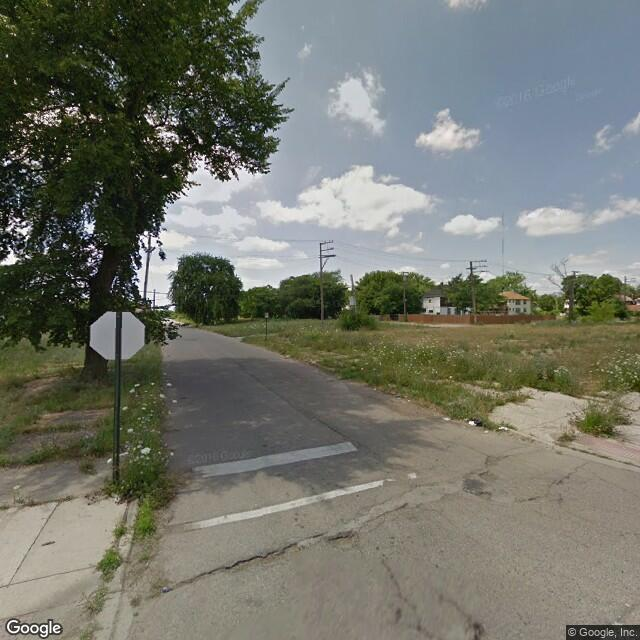litter: (440, 413, 450, 422), (497, 423, 508, 431), (468, 418, 476, 427)
